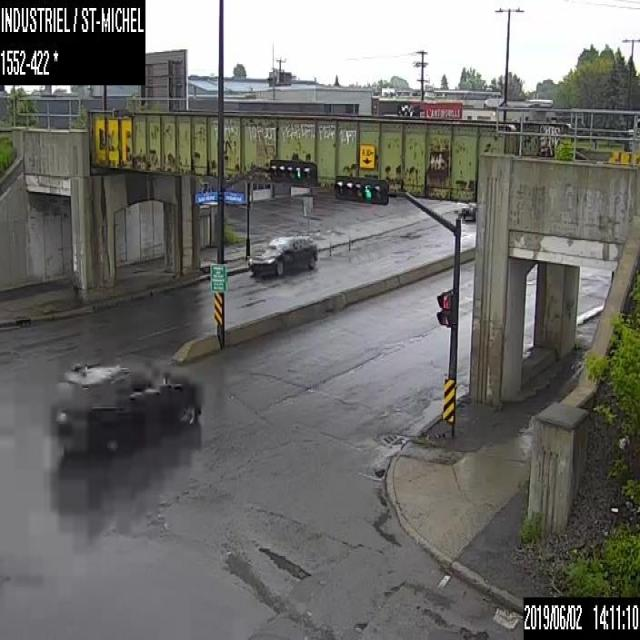vehicle: (50, 357, 201, 455), (247, 233, 318, 276), (454, 201, 476, 222)
